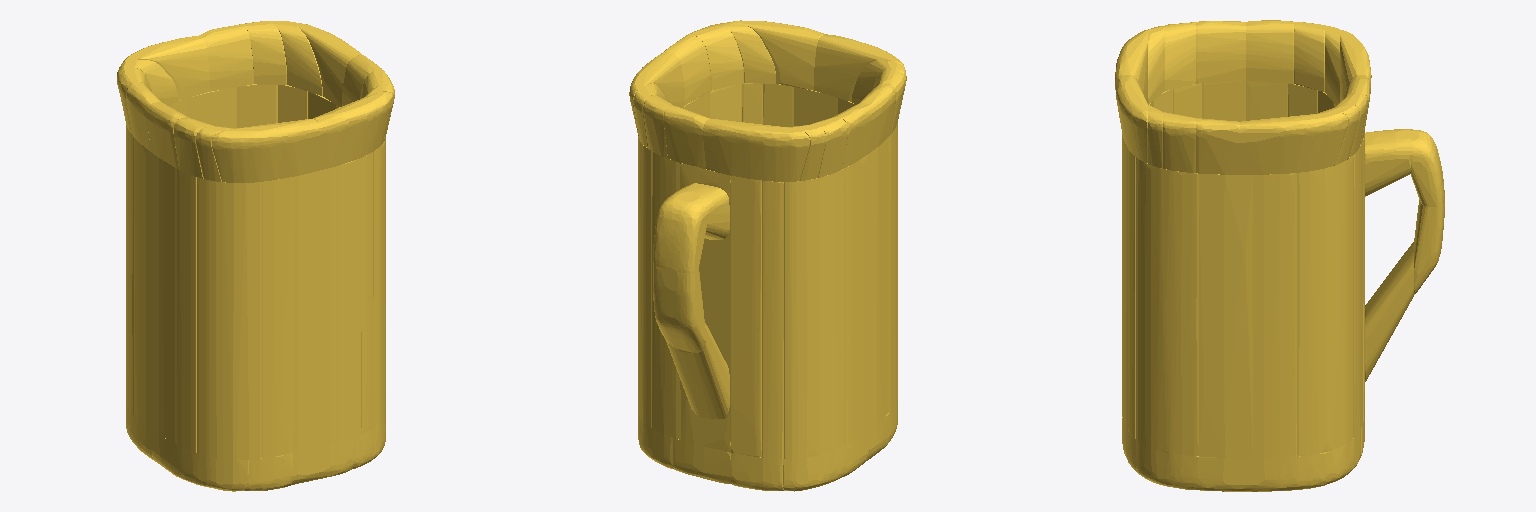
robot.urdf — 108.urdf:
<?xml version="1.0" ?>
<robot name="108.urdf">
	<link name="baseLink">
		<inertial>
			<origin rpy="0 0 0" xyz="0 0 0"/>
				<mass value="0.1"/>
				<inertia ixx="6e-5" ixy="0" ixz="0" iyy="6e-5" iyz="0" izz="6e-5"/>
		</inertial>
		<visual>
			<origin rpy="0 0 0" xyz="0 0 0"/>
			<geometry>
				<mesh filename="37_decom_wt.obj" scale="0.85 0.85 1.15"/>
			</geometry>
			<material name="yellow">
				<color rgba="0.98 0.84 0.35 1"/>
			</material>
		</visual>
		<collision>
			<origin rpy="0 0 0" xyz="0 0 0"/>
			<geometry>
				<mesh filename="37_decom_wt.obj" scale="0.85 0.85 1.15"/>
			</geometry>
		</collision>
	</link>
</robot>

--- What the picture shows (computed from the rendered views, not written in the file) ---
3 views of the same robot in one strip: view 1: azimuth 30°, elevation 25°; view 2: azimuth 150°, elevation 25°; view 3: azimuth 270°, elevation 25° (orthographic).
Model 108.urdf with 1 links and 0 joints (none), rooted at baseLink, posed all joints at 0.
Visible links, largest first — view 1: baseLink; view 2: baseLink; view 3: baseLink.
Link boxes in pixels (bbox=[...]): baseLink: bbox=[117, 21, 394, 491]; baseLink: bbox=[629, 20, 906, 491]; baseLink: bbox=[1115, 20, 1444, 491].
Size in the robot's own frame: 0.0965 by 0.1248 by 0.1559 metres.
1 mesh visuals loaded from 1 distinct referenced files (1 OBJ).